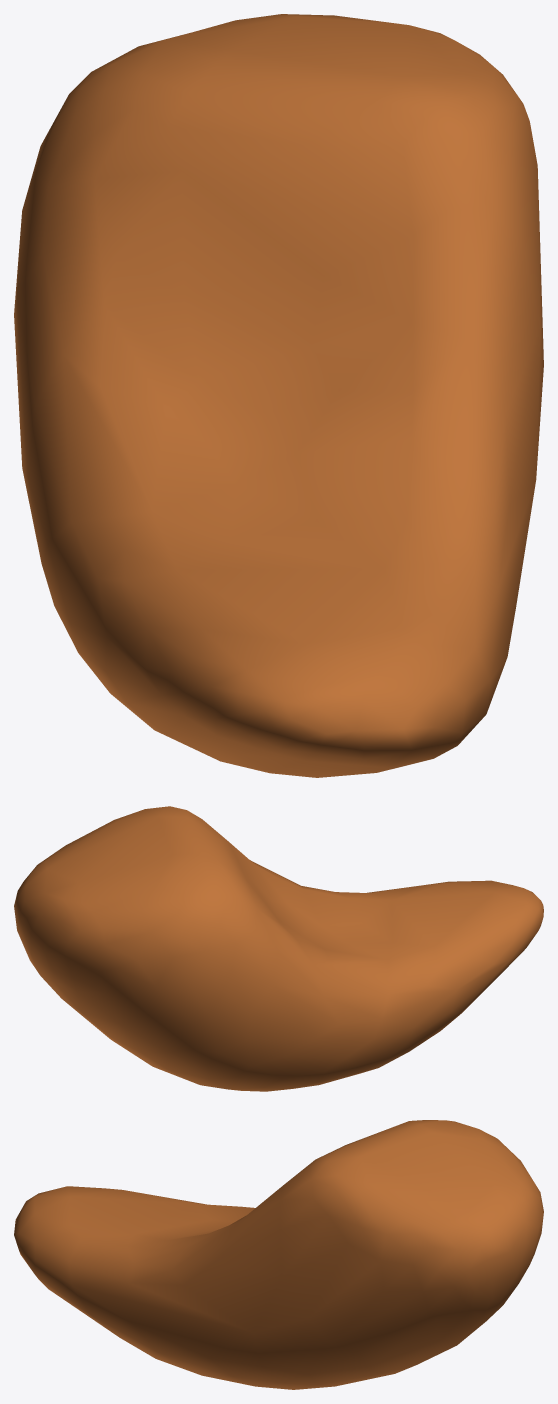
File: Lateral_geniculate_body_right.glb
3 views of the same model, one above another, from view 1: azimuth 30°, elevation 25°; view 2: azimuth 150°, elevation 25°; view 3: azimuth 270°, elevation 25° (orthographic). The views are drawn at different scales.
Parts seen in each view (by area): view 1: Lateral_geniculate_body.r_grp1.073; view 2: Lateral_geniculate_body.r_grp1.073; view 3: Lateral_geniculate_body.r_grp1.073.
Boxes of the visible parts, x1=… form: Lateral_geniculate_body.r_grp1.073: x1=14, y1=14, x2=543, y2=777; Lateral_geniculate_body.r_grp1.073: x1=14, y1=806, x2=543, y2=1091; Lateral_geniculate_body.r_grp1.073: x1=14, y1=1120, x2=543, y2=1389.
Bounding box in the file's own units: 0.00822 × 0.00623 × 0.0114.
